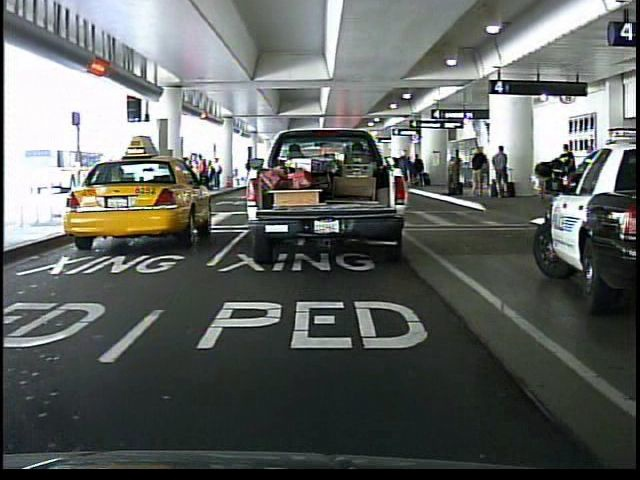person: (336, 141, 369, 220), (391, 143, 417, 211), (556, 138, 579, 200)
